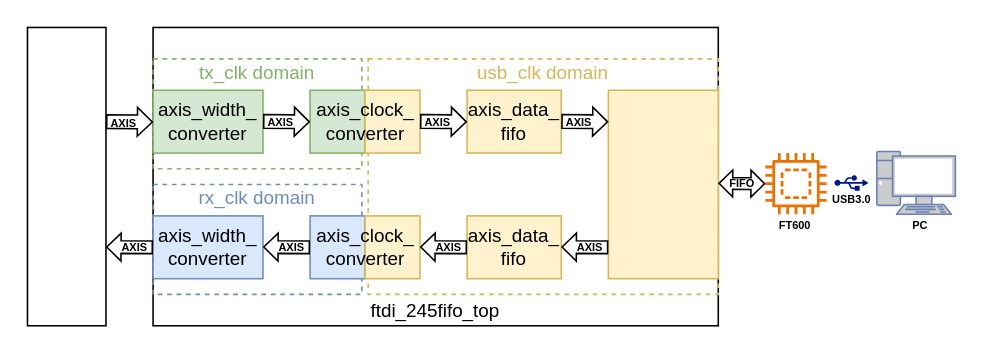
Image size: 984x353. Some labels were removed from this diagram. The shapes that lost their labels are listed below. From the top down, each one's centre as x and y in pixels, then its label:
the point at 66,176: user's logic
the point at 662,184: ftdi_245fifo_ fsm
